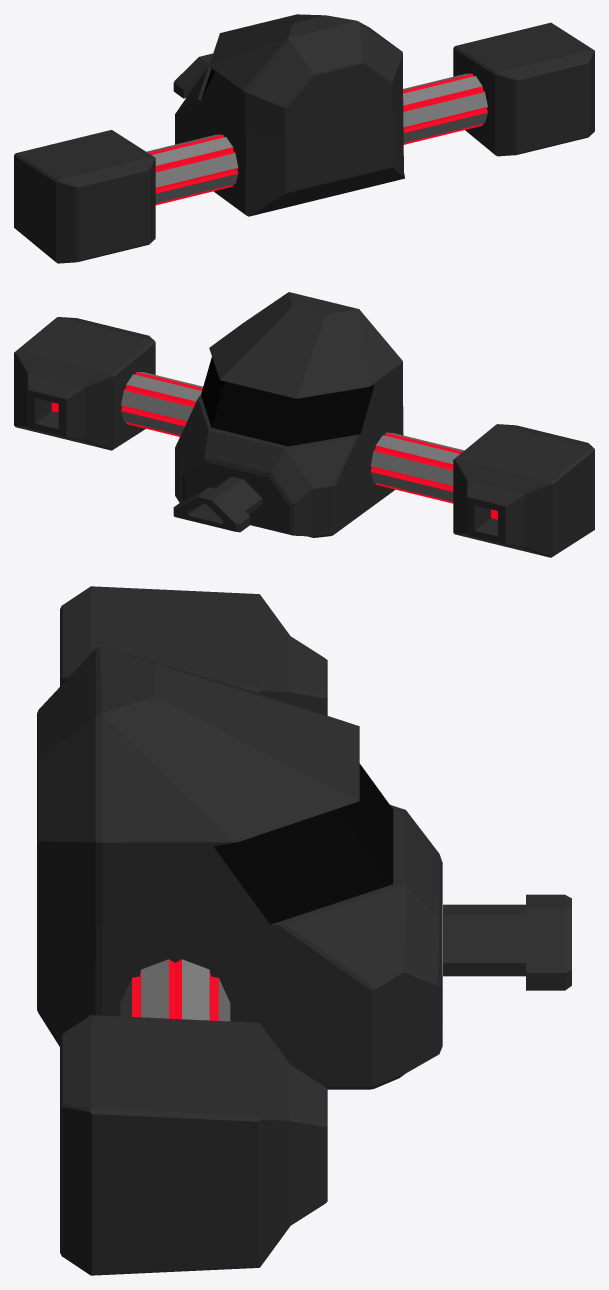
Rendered from Boss.fbx.
The picture shows the model from 3 angles, top to bottom: view 1: azimuth 30°, elevation 25°; view 2: azimuth 150°, elevation 25°; view 3: azimuth 270°, elevation 25°; orthographic projection. The views are drawn at different scales.
Visible parts, largest first — view 1: Cube.001, Cube.005, Cube.003, Cylinder.002, Cylinder.003, Cube.004; view 2: Cube.001, Cube.005, Cube.003, Cylinder.003, Cylinder.002, Cube.004; view 3: Cube.001, Cube.003, Cube.005, Cube.004, Cylinder.002.
Boxes of the visible parts, box(x1,y1,x2,y2) form: Cube.001: box(175, 14, 404, 216); Cube.005: box(14, 130, 155, 263); Cube.003: box(453, 22, 594, 156); Cylinder.002: box(403, 73, 487, 144); Cylinder.003: box(146, 134, 238, 205); Cube.004: box(173, 53, 212, 98); Cube.001: box(175, 292, 403, 537); Cube.005: box(453, 424, 594, 557); Cube.003: box(14, 317, 155, 450); Cylinder.003: box(370, 432, 464, 503); Cylinder.002: box(121, 372, 202, 436); Cube.004: box(173, 476, 262, 532); Cube.001: box(37, 646, 442, 1089); Cube.003: box(60, 1015, 327, 1275); Cube.005: box(60, 586, 327, 715); Cube.004: box(443, 894, 571, 990); Cylinder.002: box(120, 959, 230, 1021).
Size of the model in its own units: 1350 by 400 by 580.
